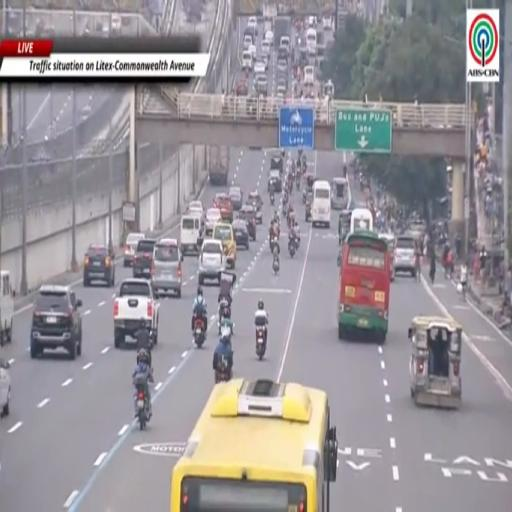bus: (171, 379, 337, 511), (338, 231, 390, 343), (312, 180, 330, 228), (331, 178, 349, 210), (350, 208, 373, 233)
car: (30, 285, 82, 359), (152, 239, 183, 298), (83, 245, 115, 286), (198, 239, 225, 285), (0, 270, 15, 347), (213, 222, 236, 268), (394, 234, 416, 277), (133, 238, 155, 278), (124, 233, 145, 266), (238, 204, 256, 241), (0, 359, 10, 418), (214, 194, 233, 222), (246, 191, 262, 223), (205, 207, 221, 236), (233, 220, 249, 249), (228, 186, 242, 211), (268, 169, 282, 193), (270, 152, 283, 174), (188, 201, 203, 218), (255, 74, 267, 94), (304, 67, 314, 85), (254, 59, 266, 74), (248, 16, 257, 35), (243, 35, 253, 50), (277, 75, 287, 90), (261, 40, 270, 56), (264, 30, 273, 46), (277, 58, 287, 72), (260, 55, 268, 71), (248, 45, 257, 59), (277, 85, 286, 97)
jeepney: (408, 316, 462, 408), (379, 233, 396, 281), (339, 210, 351, 245)
motorcycle: (134, 374, 150, 430), (215, 358, 231, 383), (218, 302, 230, 334), (256, 326, 266, 360), (218, 317, 234, 338), (194, 317, 205, 347), (288, 238, 296, 258), (273, 256, 279, 275), (270, 237, 277, 252), (288, 176, 293, 194), (296, 173, 300, 190), (270, 194, 275, 205), (303, 189, 306, 204)
truck: (114, 279, 159, 348), (209, 147, 229, 186), (274, 16, 291, 47)
